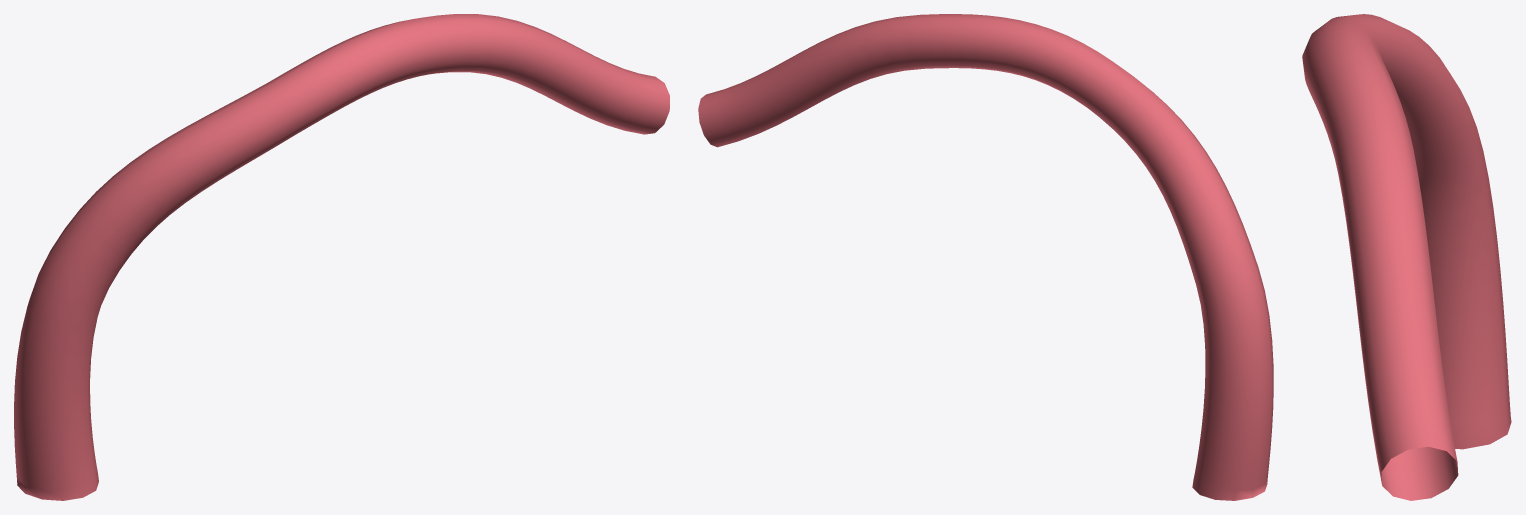
3 renders of one model, left to right at view 1: azimuth 30°, elevation 25°; view 2: azimuth 150°, elevation 25°; view 3: azimuth 270°, elevation 25°, orthographic. The views are drawn at different scales.
Parts seen in each view (by area): view 1: ZA_78757f478cc78b5e; view 2: ZA_78757f478cc78b5e; view 3: ZA_78757f478cc78b5e.
Boxes of the visible parts, left/top/right/bottom form: ZA_78757f478cc78b5e: left=14, top=14, right=669, bottom=500; ZA_78757f478cc78b5e: left=698, top=14, right=1273, bottom=500; ZA_78757f478cc78b5e: left=1302, top=14, right=1511, bottom=500.
Size of the model in its own units: 0.0615 by 0.0383 by 0.0131.
